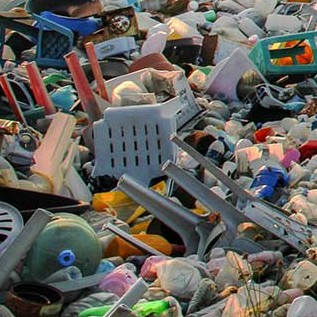garbage: (3, 2, 317, 312)
